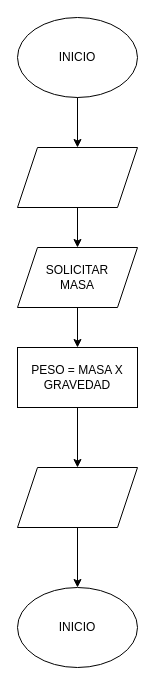
This 155x685 diagram has some shape labels left out. Here are the shapes that lost their labels. From the top down, the centre of each, then its label:
At (x=77, y=177): "SOLICITAR GRAVEDAD".
At (x=77, y=497): "MOSTRAR RESULTADO".
